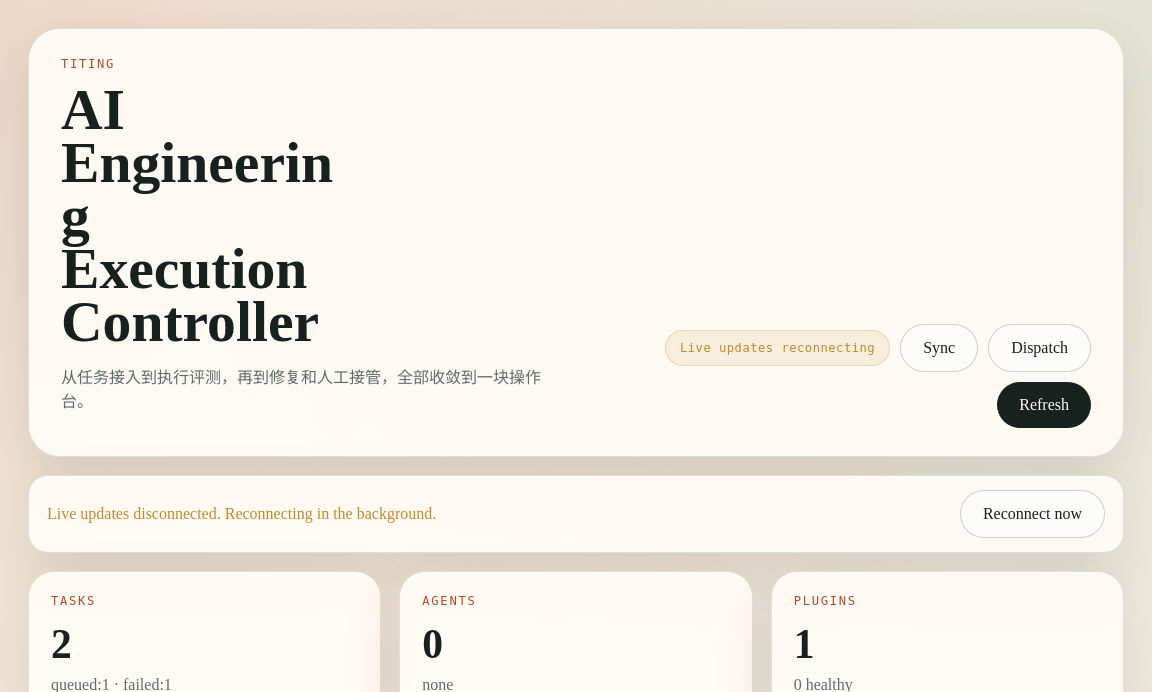
Test case: App › shows reconnect banner and reconnects the live event stream
Expected: the text "Live updates disconnected. Reconnecting in the background." is shown, [47,505,436,523]
Click the button "Reconnect now" at (1032, 514), box [960,490,1105,538]
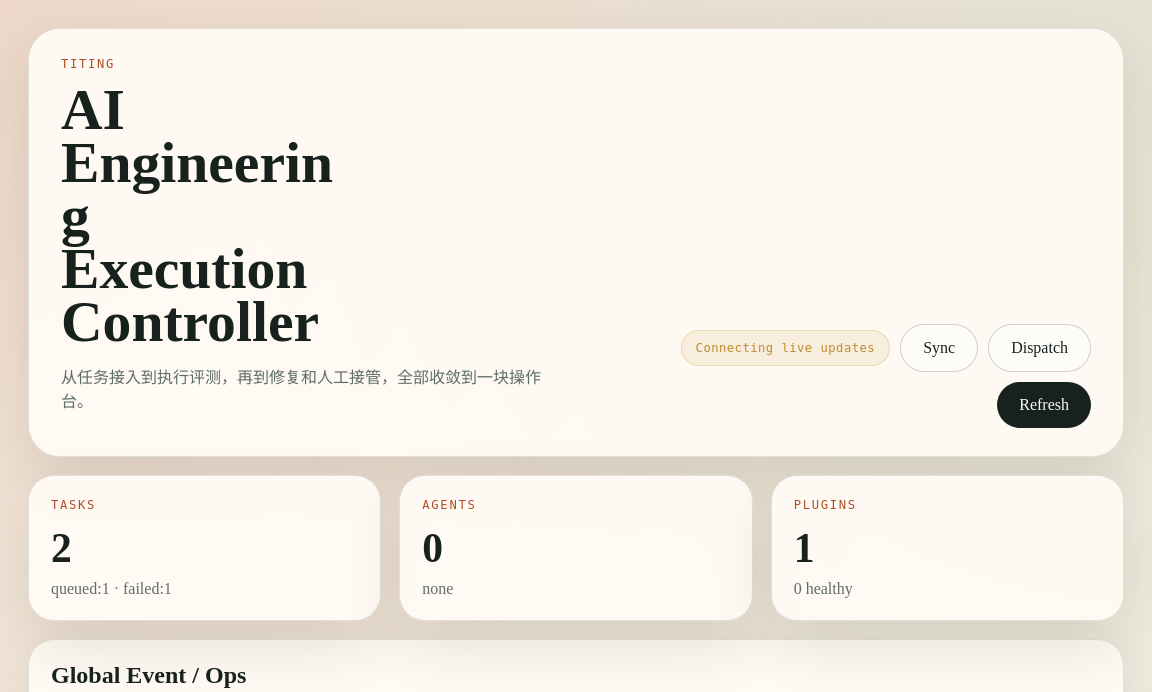
Now the text "Live updates disconnected. Reconnecting in the background." is gone
